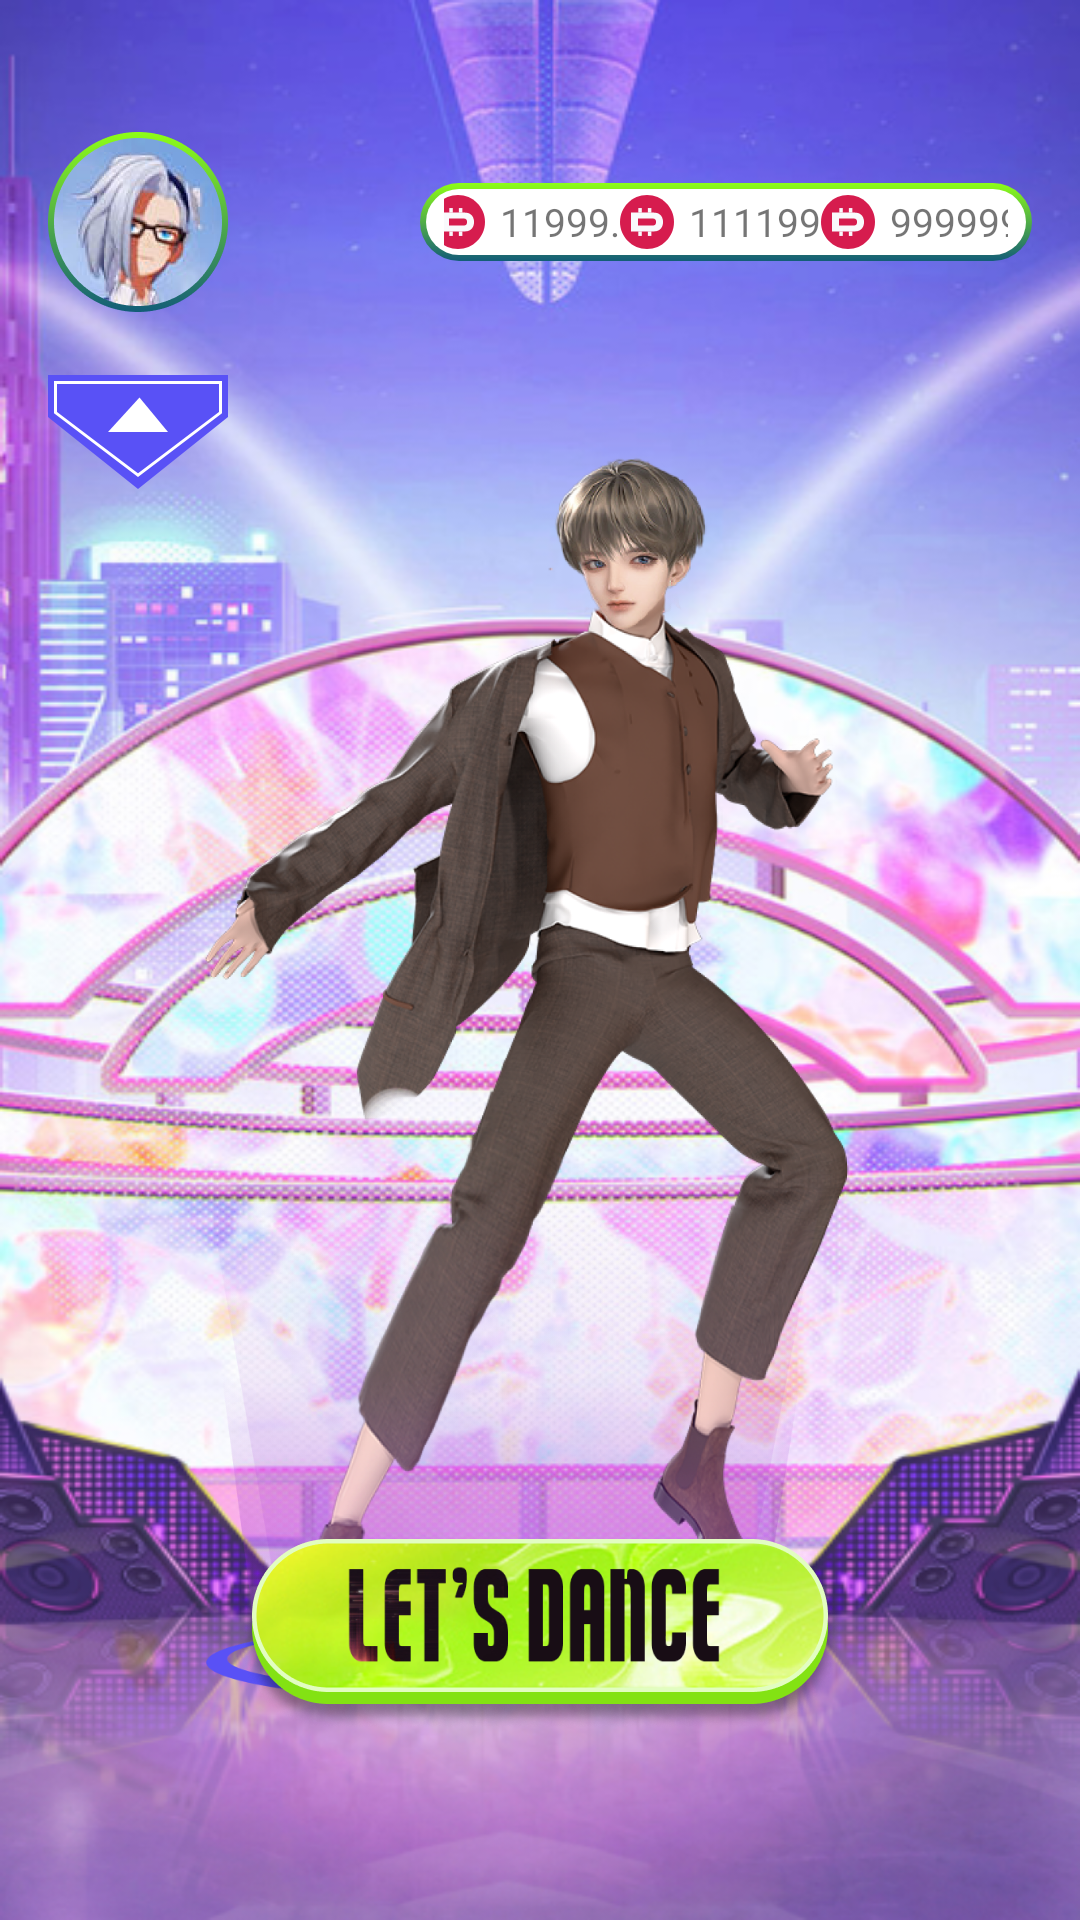

Point at icon controls on the screen. Image size 1080 × 1920, points as (x,y).
dropdown menu: (138,432)
